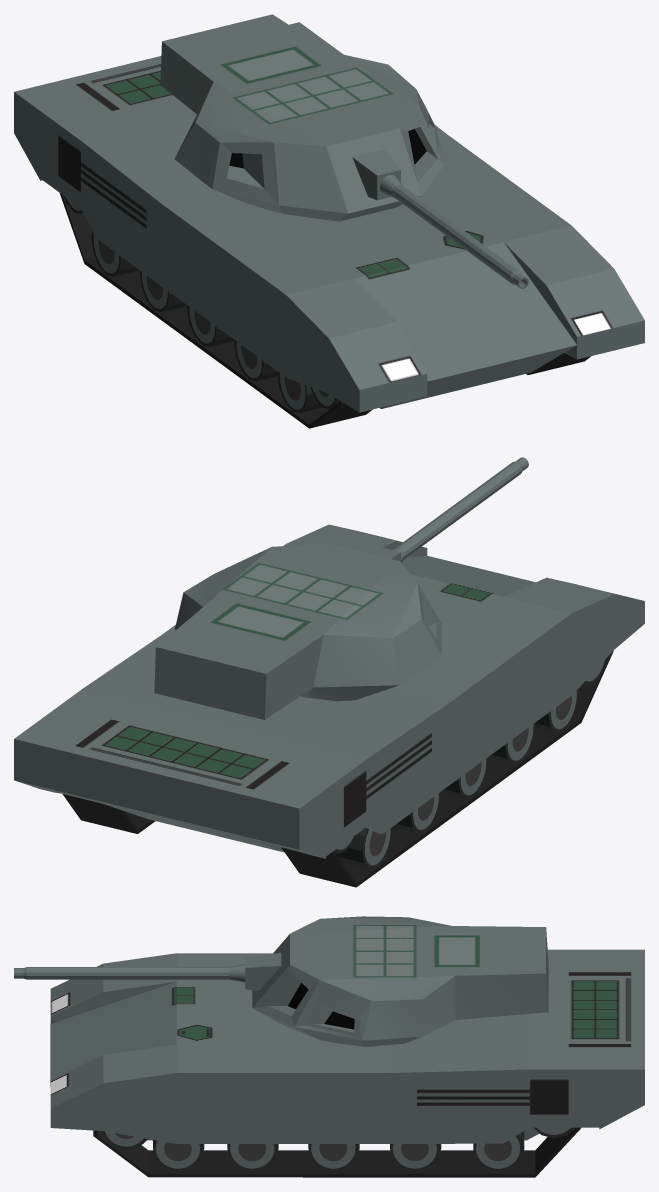
File: Tank_04.fbx
The picture shows the model from 3 angles, top to bottom: view 1: azimuth 30°, elevation 25°; view 2: azimuth 150°, elevation 25°; view 3: azimuth 270°, elevation 25°; orthographic projection. The views are drawn at different scales.
Parts seen in each view (by area): view 1: Tank_04_Body, Upper_Body, Tank_04_Chain01, Main_Gun_With_Body, Tank_04_Wheel14, Tank_04_Wheel04, Tank_04_Wheel06, Tank_04_Wheel08, Tank_04_Wheel10; view 2: Tank_04_Body, Upper_Body, Tank_04_Chain01, Main_Gun_With_Body, Tank_04_Chain02, Tank_04_Wheel04, Tank_04_Wheel06, Tank_04_Wheel08, Tank_04_Wheel10, Tank_04_Wheel14; view 3: Tank_04_Body, Upper_Body, Tank_04_Chain02, Main_Gun_With_Body, Tank_04_Wheel03, Tank_04_Wheel11, Tank_04_Wheel05, Tank_04_Wheel07, Tank_04_Wheel09, Tank_04_Wheel12.
Boxes of the visible parts, x1,y1,x2,y2 form: Tank_04_Body: (14, 22, 644, 412); Upper_Body: (160, 14, 443, 221); Tank_04_Chain01: (59, 193, 372, 428); Main_Gun_With_Body: (352, 149, 528, 288); Tank_04_Wheel14: (277, 372, 321, 412); Tank_04_Wheel04: (91, 231, 139, 276); Tank_04_Wheel06: (139, 271, 187, 311); Tank_04_Wheel08: (187, 305, 234, 346); Tank_04_Wheel10: (234, 340, 277, 381); Tank_04_Body: (14, 524, 644, 858); Upper_Body: (154, 543, 441, 719); Tank_04_Chain01: (281, 651, 613, 887); Main_Gun_With_Body: (363, 457, 528, 562); Tank_04_Chain02: (62, 794, 155, 833); Tank_04_Wheel04: (336, 827, 392, 868); Tank_04_Wheel06: (392, 792, 440, 833); Tank_04_Wheel08: (440, 757, 487, 798); Tank_04_Wheel10: (487, 723, 534, 764); Tank_04_Wheel14: (534, 690, 578, 732); Tank_04_Body: (50, 949, 644, 1143); Upper_Body: (252, 916, 548, 1046); Tank_04_Chain02: (93, 1127, 581, 1177); Main_Gun_With_Body: (14, 952, 281, 990); Tank_04_Wheel03: (473, 1131, 524, 1171); Tank_04_Wheel11: (153, 1140, 204, 1171); Tank_04_Wheel05: (390, 1144, 441, 1171); Tank_04_Wheel07: (308, 1144, 359, 1171); Tank_04_Wheel09: (227, 1144, 278, 1171); Tank_04_Wheel12: (102, 1131, 147, 1149).
Size of the model in its own units: 46.73 by 30.93 by 104.
